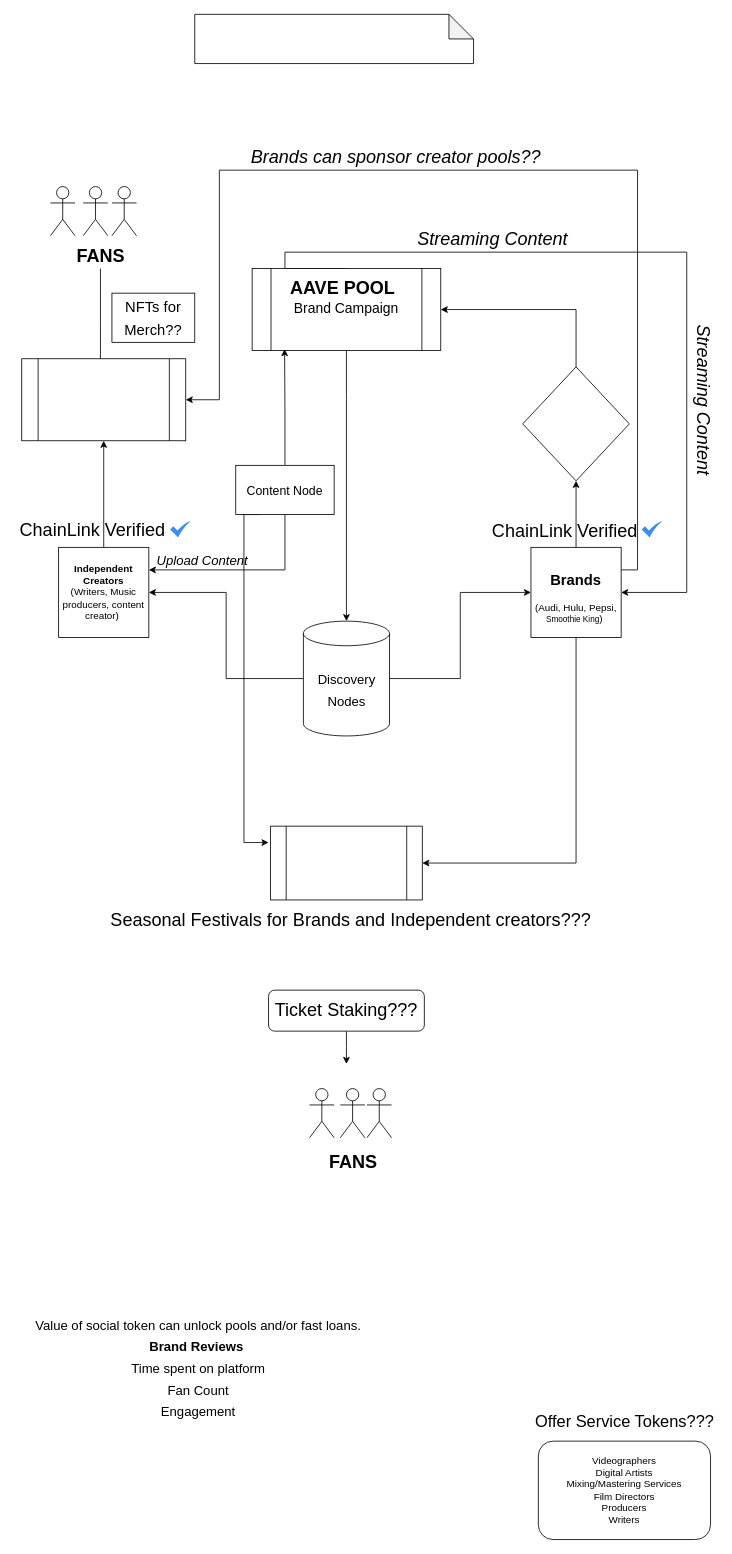
This 732x1554 diagram has some shape labels left out. The shapes that lost their labels are listed below. From the top down, each one's centre as x and y in pixels, then its label:
At [334,39]: "Do fans get access to the newly created content???".
At [103,399]: "AAVE POOL (Touring, Album)".
At [575,423]: "Create Campaign".
At [346,862]: "AAVE POOL Festival Campaign".
